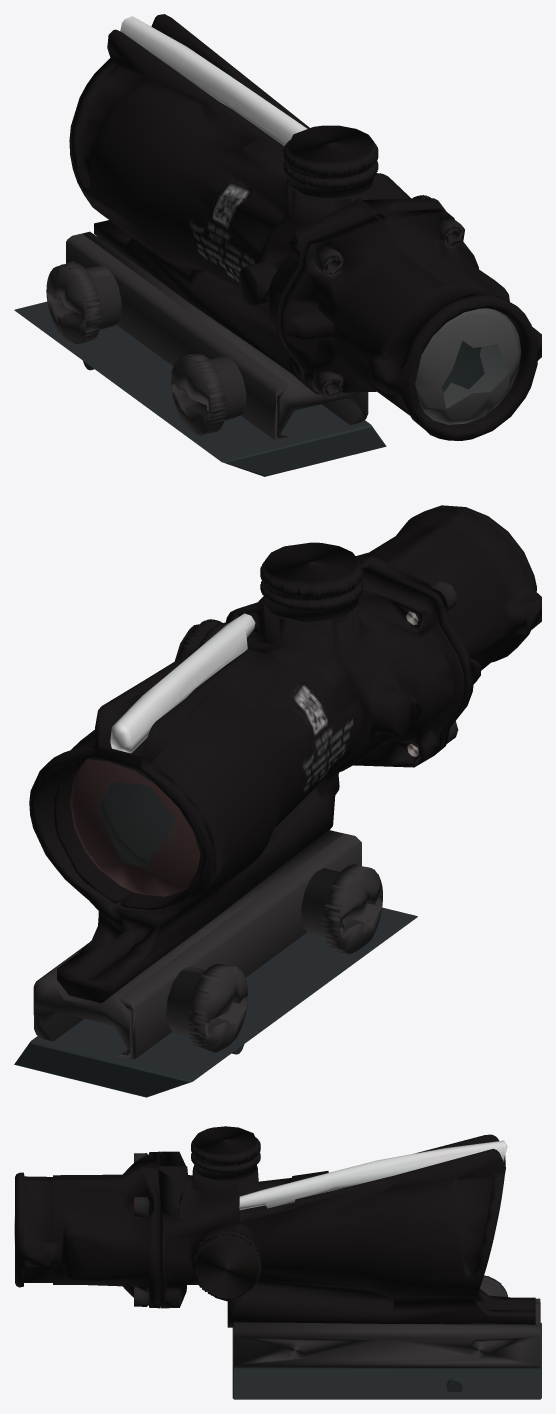
The picture shows the model from 3 angles, top to bottom: view 1: azimuth 30°, elevation 25°; view 2: azimuth 150°, elevation 25°; view 3: azimuth 270°, elevation 25°; orthographic projection. The views are drawn at different scales.
Visible parts, largest first — view 1: 스코프_x4, 일체형_장착대; view 2: 스코프_x4, 일체형_장착대; view 3: 스코프_x4, 일체형_장착대.
Part boxes in pixels (x1,y1,x2,y2): 스코프_x4: (46,14,541,442); 일체형_장착대: (14,301,386,476); 스코프_x4: (29,505,541,1060); 일체형_장착대: (14,907,417,1097); 스코프_x4: (14,1126,540,1368); 일체형_장착대: (232,1322,541,1399).
Size of the model in its own units: 0.0513 by 0.0748 by 0.1503.
Materials: 3 (1 with a texture image).
